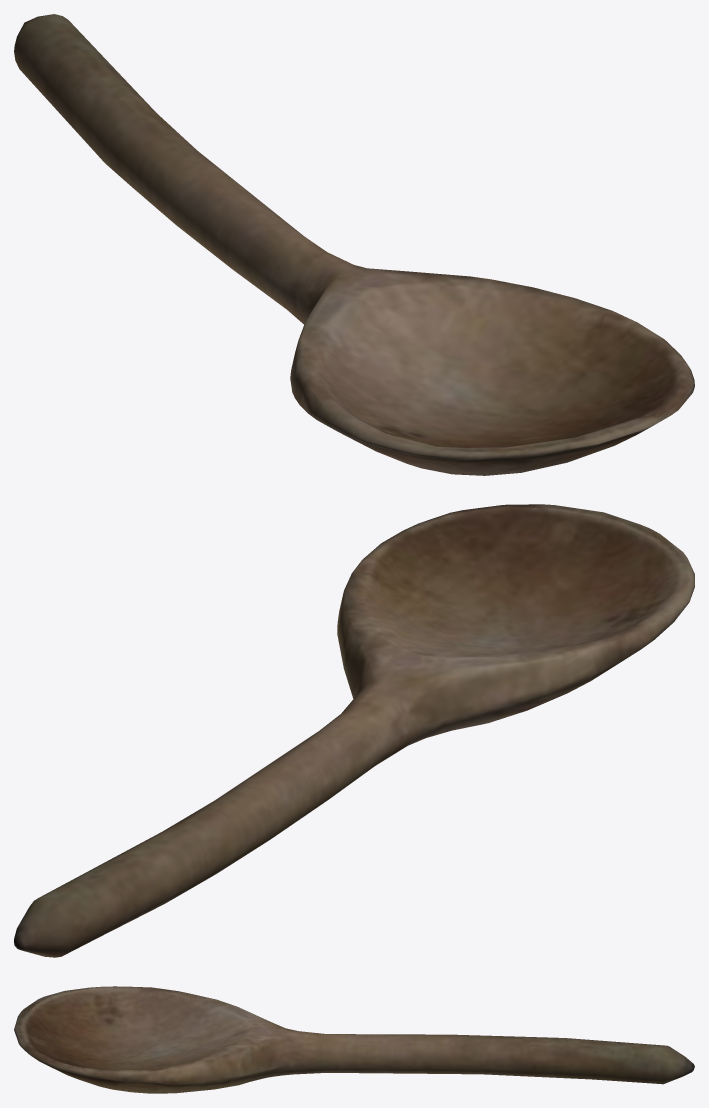
The model's file is ph_wooden_spoon.glb.
3 renders of one model, top to bottom at view 1: azimuth 30°, elevation 25°; view 2: azimuth 150°, elevation 25°; view 3: azimuth 270°, elevation 25°, orthographic. The views are drawn at different scales.
Visible parts, largest first — view 1: wooden_spoon; view 2: wooden_spoon; view 3: wooden_spoon.
Part boxes in pixels (x1,y1,x2,y2): wooden_spoon: (14, 14, 694, 475); wooden_spoon: (14, 504, 694, 957); wooden_spoon: (14, 986, 694, 1093).
Size of the model in its own units: 0.0864 by 0.025 by 0.2776.
1 material, 1 textured.
